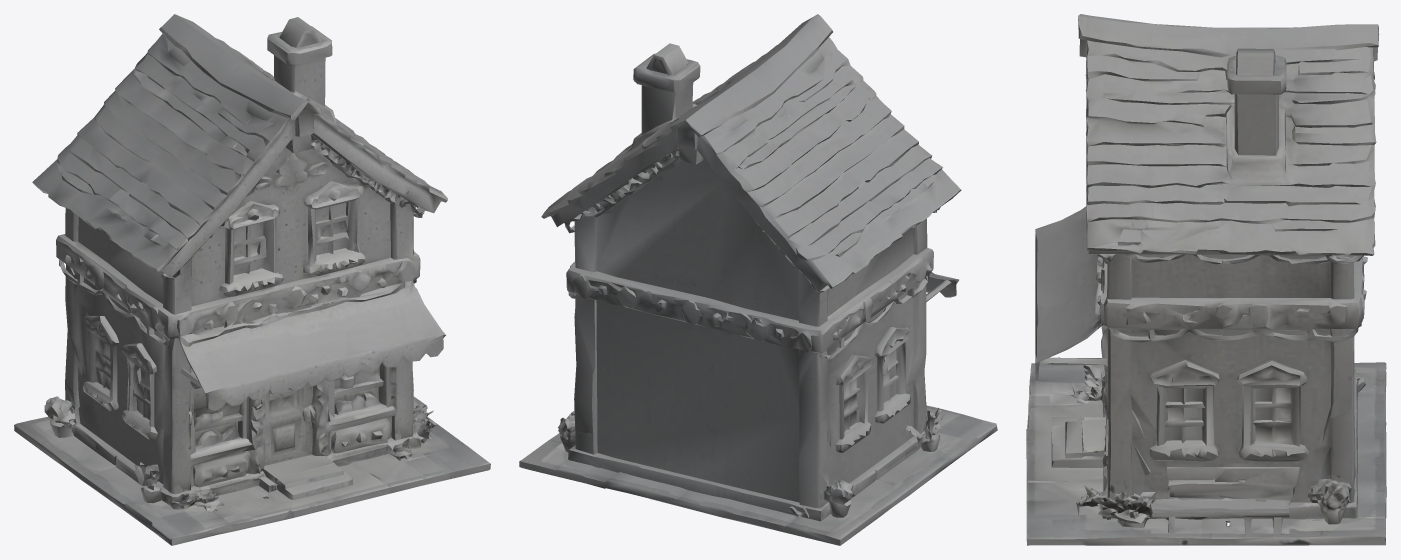
File: B_BAKERY_grey.glb
The picture shows the model from 3 angles, left to right: view 1: azimuth 30°, elevation 25°; view 2: azimuth 150°, elevation 25°; view 3: azimuth 270°, elevation 25°; orthographic projection. The views are drawn at different scales.
Parts seen in each view (by area): view 1: geometry_0; view 2: geometry_0; view 3: geometry_0.
Part boxes in pixels (x1=…): geometry_0: x1=14, y1=14, x2=490, y2=545; geometry_0: x1=519, y1=14, x2=997, y2=545; geometry_0: x1=1026, y1=14, x2=1386, y2=545.
Size of the model in its own units: 0.8505 by 1 by 0.7329.
Materials: 1 (1 with a texture image).
